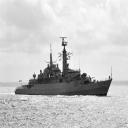Fragata: (15, 36, 114, 98)
